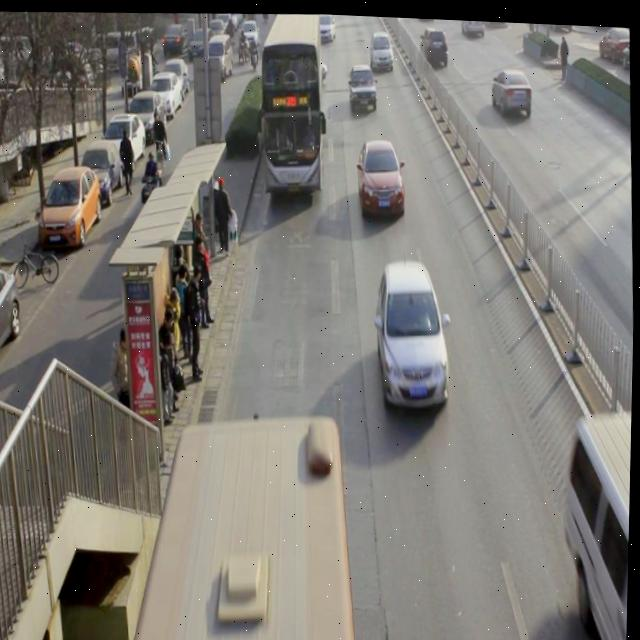car: (374, 263, 455, 406), (356, 135, 408, 214), (490, 63, 534, 114), (273, 46, 329, 86), (348, 60, 379, 111), (418, 22, 450, 66), (369, 26, 394, 70), (314, 11, 336, 40), (460, 16, 485, 32)
truck: (565, 415, 633, 640)
van: (122, 413, 360, 640), (256, 9, 326, 189)
